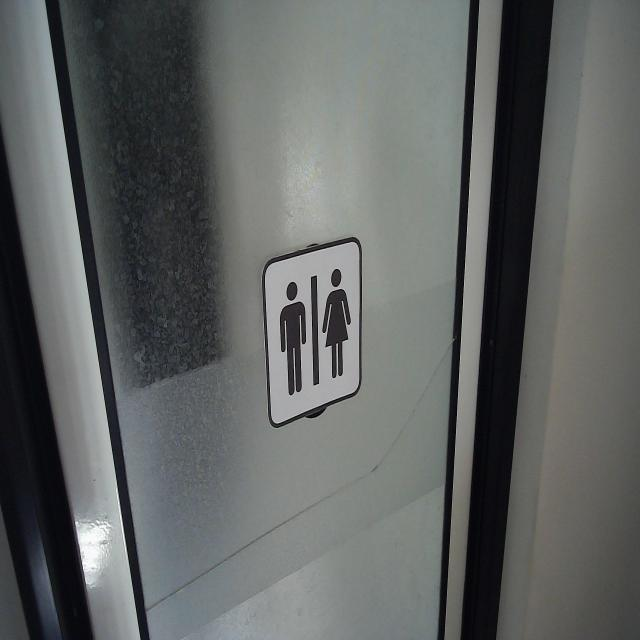restroom: (260, 235, 364, 432)
